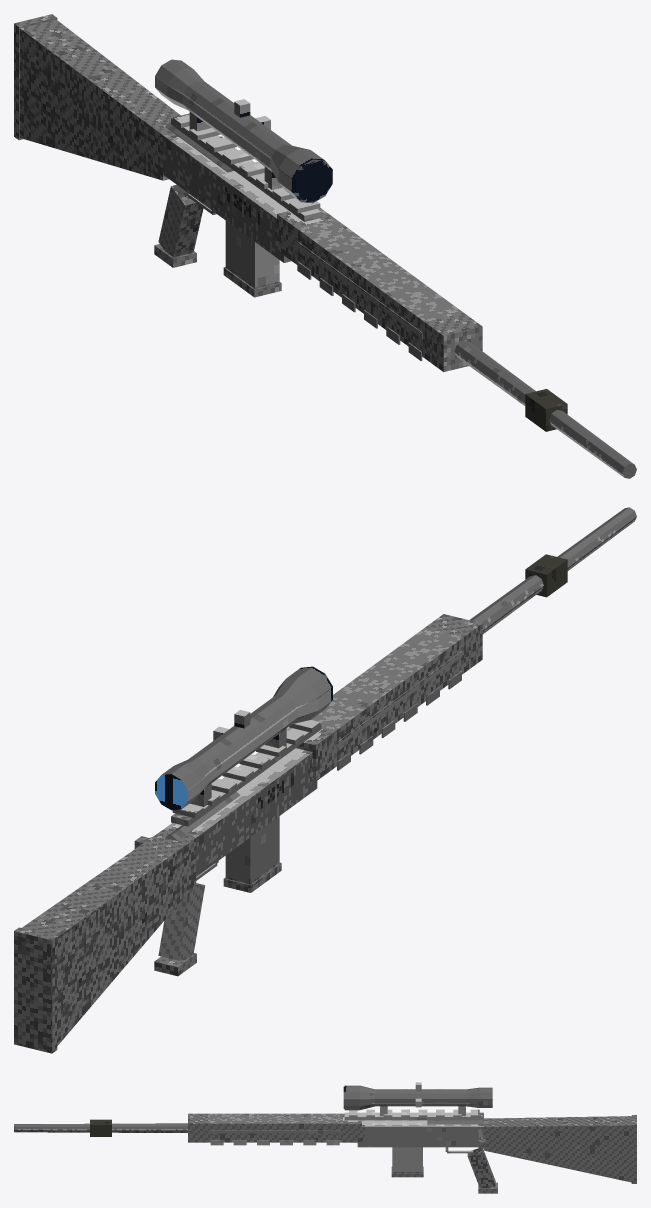
Rendered from lrx7_harbinger.glb.
The picture shows the model from 3 angles, top to bottom: view 1: azimuth 30°, elevation 25°; view 2: azimuth 150°, elevation 25°; view 3: azimuth 270°, elevation 25°; orthographic projection. The views are drawn at different scales.
Visible parts, largest first — view 1: prop, opt_stock_std, opt_optic_scope, opt_mag_std, opt_deco_tape; view 2: prop, opt_stock_std, opt_optic_scope, opt_mag_std, opt_deco_tape; view 3: prop, opt_stock_std, opt_optic_scope, opt_mag_std, bolt, opt_deco_tape.
Part boxes in pixels (box(x1,y1,x2,y2)): prop: box(154, 113, 636, 478); opt_stock_std: box(14, 14, 180, 180); opt_optic_scope: box(155, 59, 332, 203); opt_mag_std: box(223, 221, 281, 297); opt_deco_tape: box(525, 389, 567, 431); prop: box(154, 507, 636, 976); opt_stock_std: box(14, 829, 196, 1053); opt_optic_scope: box(155, 666, 332, 810); opt_mag_std: box(223, 816, 281, 892); opt_deco_tape: box(525, 554, 567, 597); prop: box(14, 1109, 497, 1193); opt_stock_std: box(484, 1115, 636, 1183); opt_optic_scope: box(343, 1082, 492, 1116); opt_mag_std: box(391, 1147, 423, 1177); bolt: box(427, 1120, 492, 1148); opt_deco_tape: box(90, 1119, 111, 1136).
Size of what is drawn, in the model's own units: 0.0885 by 0.271 by 1.43.
1 material, 1 textured.
